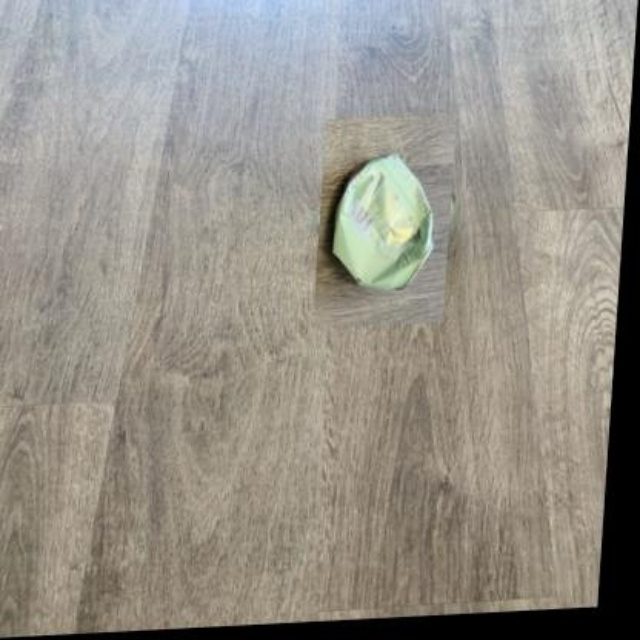trash: (332, 154, 431, 289)
